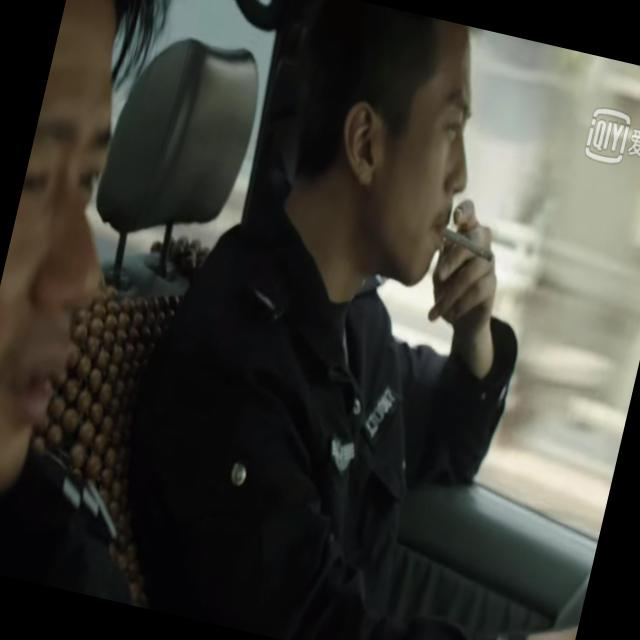cigarette: (432, 217, 499, 269)
